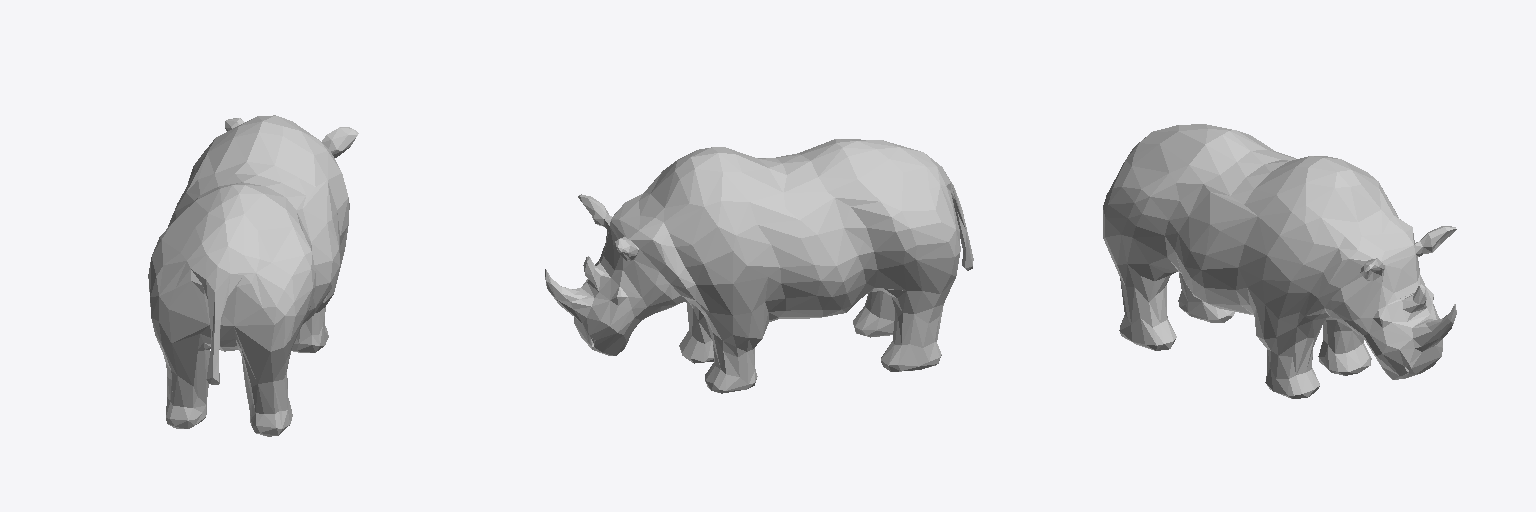
Rendered from rhino.obj.
3 renders of one model, left to right at view 1: azimuth 30°, elevation 25°; view 2: azimuth 150°, elevation 25°; view 3: azimuth 270°, elevation 25°, orthographic.
Visible parts, largest first — view 1: Plane.001_Plane.013; view 2: Plane.001_Plane.013; view 3: Plane.001_Plane.013.
Part boxes in pixels (x1,y1,x2,y2): Plane.001_Plane.013: (148, 115, 358, 436); Plane.001_Plane.013: (545, 139, 973, 393); Plane.001_Plane.013: (1103, 124, 1456, 398).
Size of the model in its own units: 19.41 by 14.25 by 20.43.